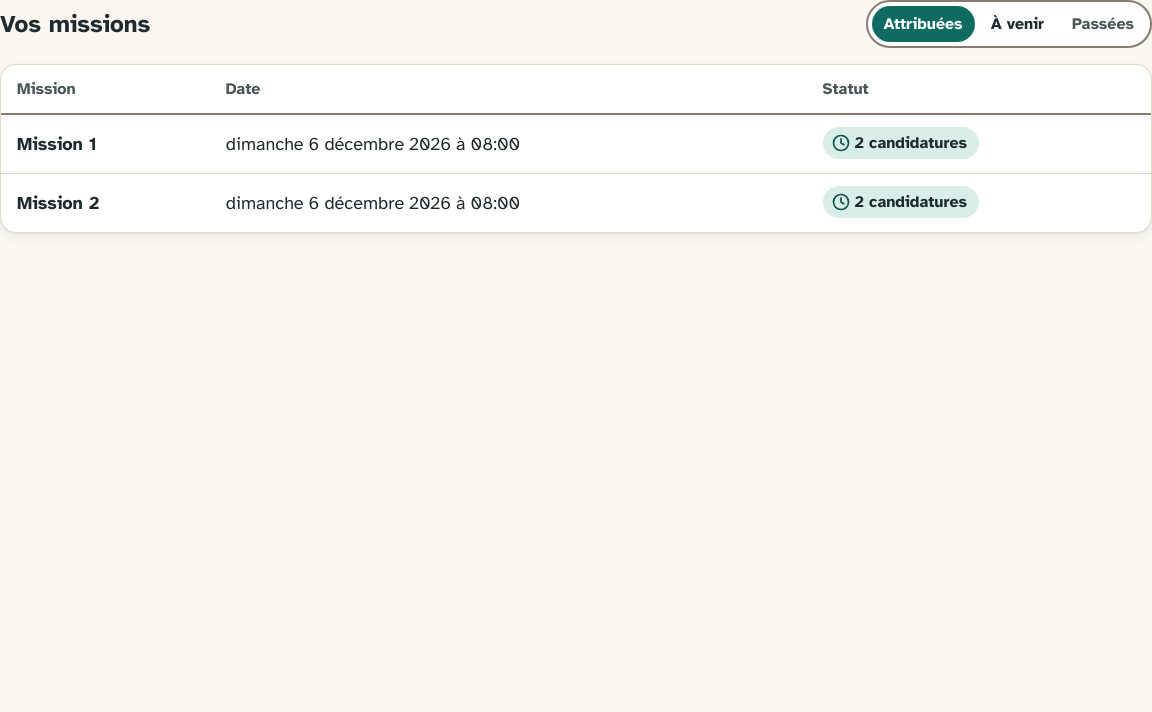
it: PublishedMissionList › opens the details right under their row, one mission at a time
This screenshot has width=1152, height=712.
Click the button "Mission 1" at (57, 144), box top-left (17, 130), bottom-right (97, 158)
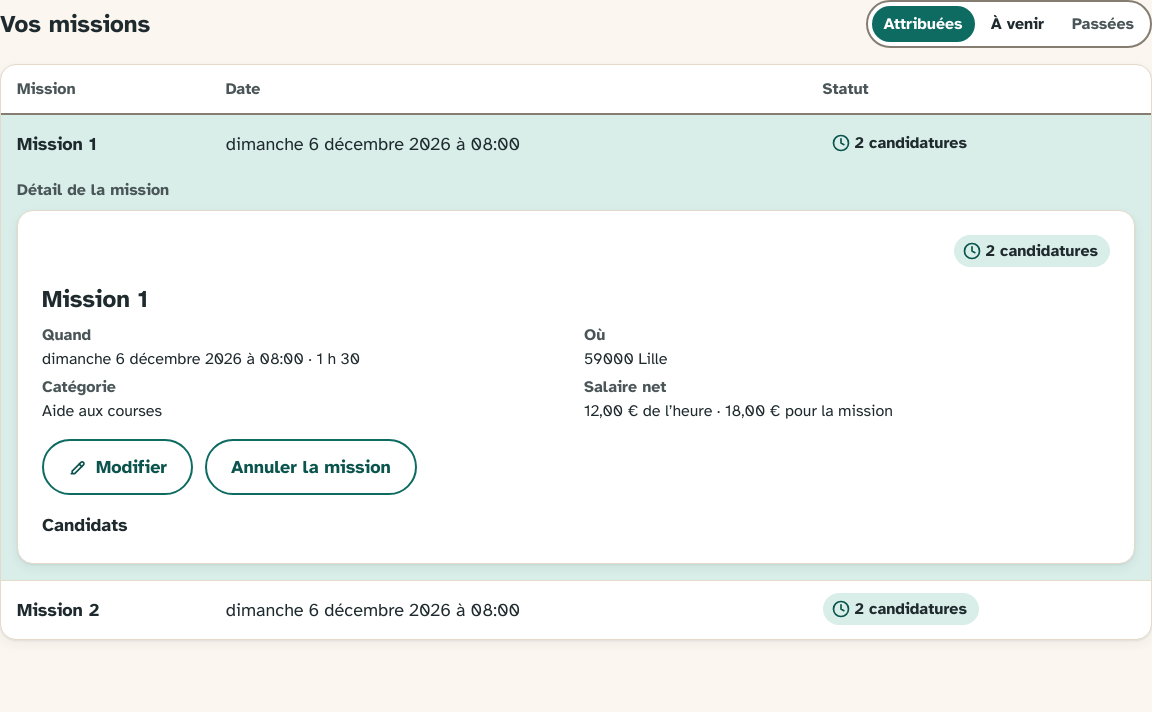
Click the button "Mission 2" at (58, 610), box top-left (17, 596), bottom-right (99, 624)
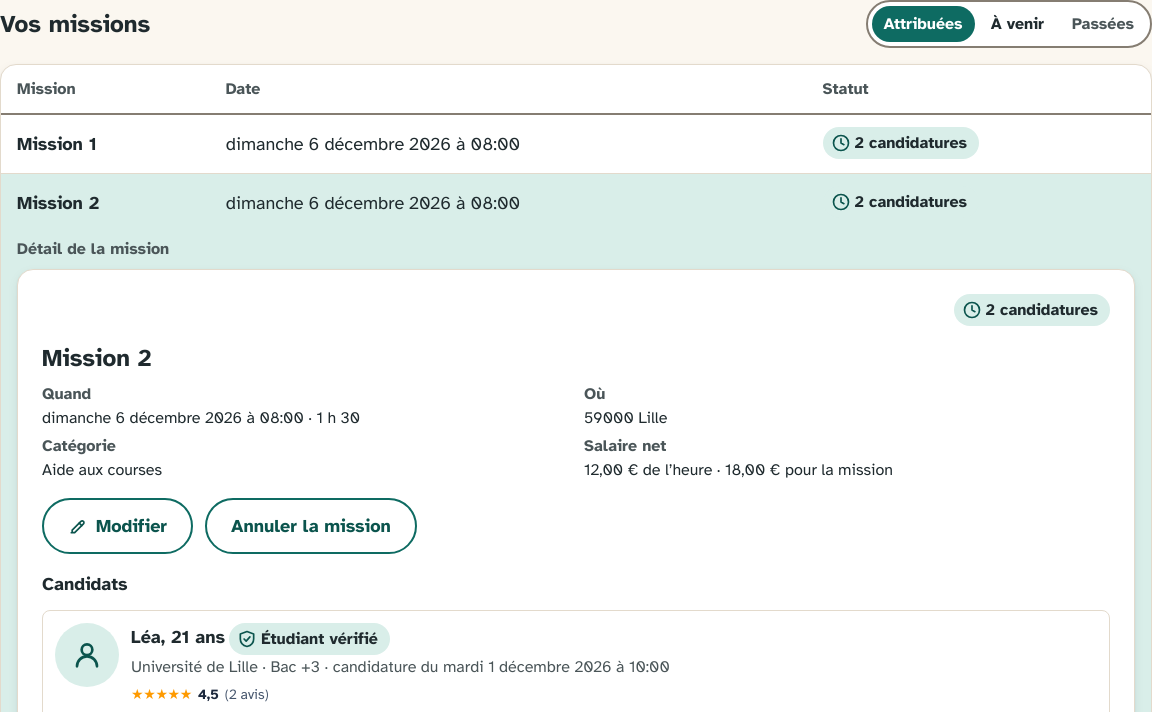
Expected: the button "Mission 1" is collapsed, top-left (17, 130), bottom-right (97, 158)
Expected: the button "Mission 2" is expanded, top-left (17, 189), bottom-right (99, 217)
